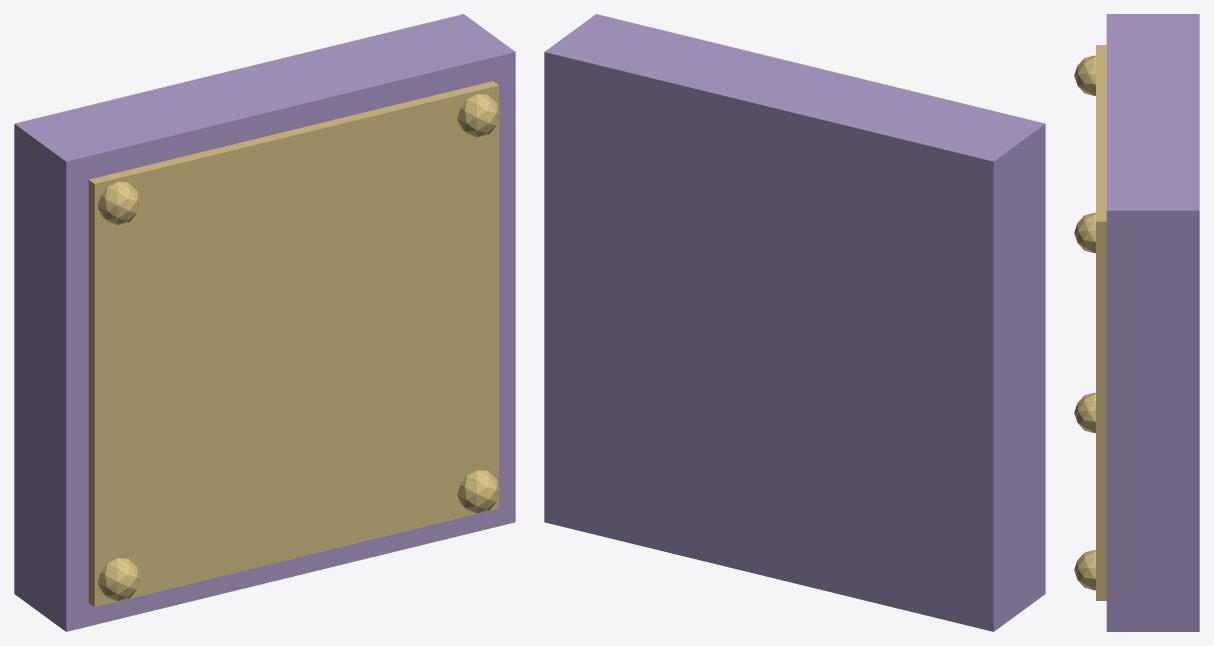
File: floating_island.glb
3 renders of one model, left to right at view 1: azimuth 30°, elevation 25°; view 2: azimuth 150°, elevation 25°; view 3: azimuth 270°, elevation 25°, orthographic. The views are drawn at different scales.
Parts seen in each view (by area): view 1: sun, purple; view 2: purple; view 3: purple, sun.
Boxes of the visible parts, x1,y1,x2,y2 form: sun: [88, 81, 500, 607]; purple: [14, 14, 515, 631]; purple: [544, 14, 1045, 631]; purple: [1106, 14, 1199, 631]; sun: [1074, 45, 1106, 600].
Size of the model in its own units: 5 by 5 by 1.35.
